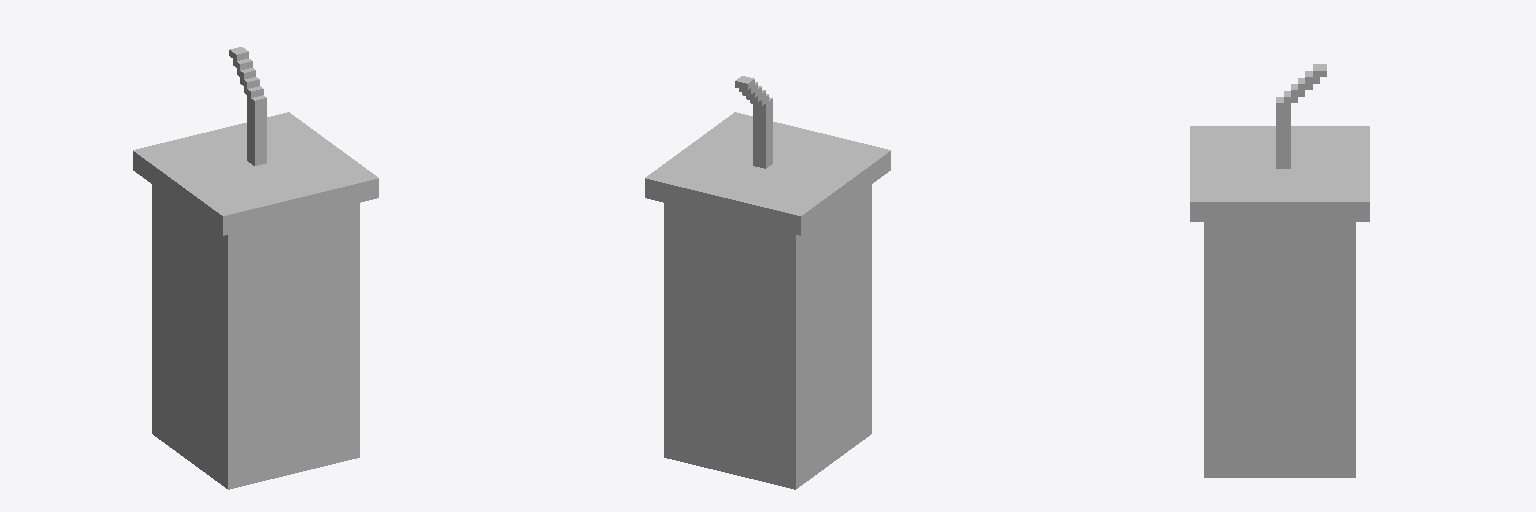
File: refresc.obj
The picture shows the model from 3 angles: view 1: azimuth 30°, elevation 25°; view 2: azimuth 150°, elevation 25°; view 3: azimuth 270°, elevation 25°; orthographic projection.
Parts seen in each view (by area): view 1: object 1; view 2: object 1; view 3: object 1.
Boxes of the visible parts, x1=… form: object 1: x1=133, y1=47, x2=378, y2=489; object 1: x1=645, y1=76, x2=890, y2=489; object 1: x1=1190, y1=64, x2=1369, y2=477.
Size of the model in its own units: 2.5 by 5.8 by 2.5.